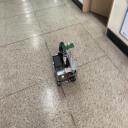cart: (52, 51, 78, 86)
